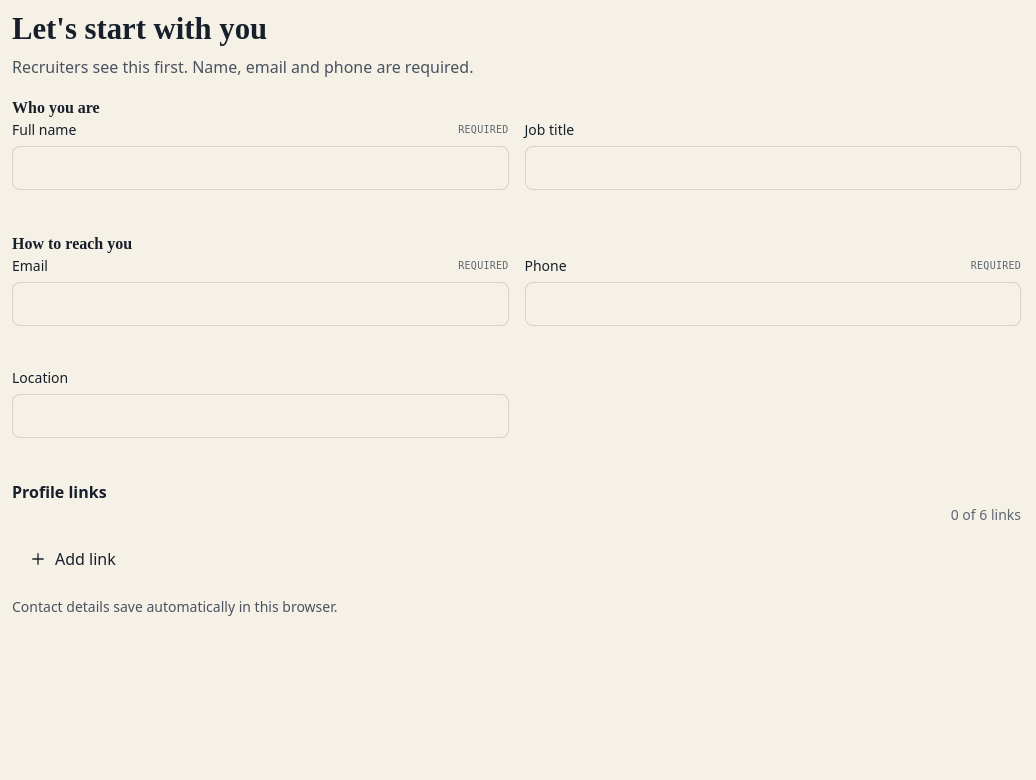
it: ContactForm › shows required field validation on blur
In the field labelled "Email": (260, 304) [12,282,508,326], type "not-an-email"
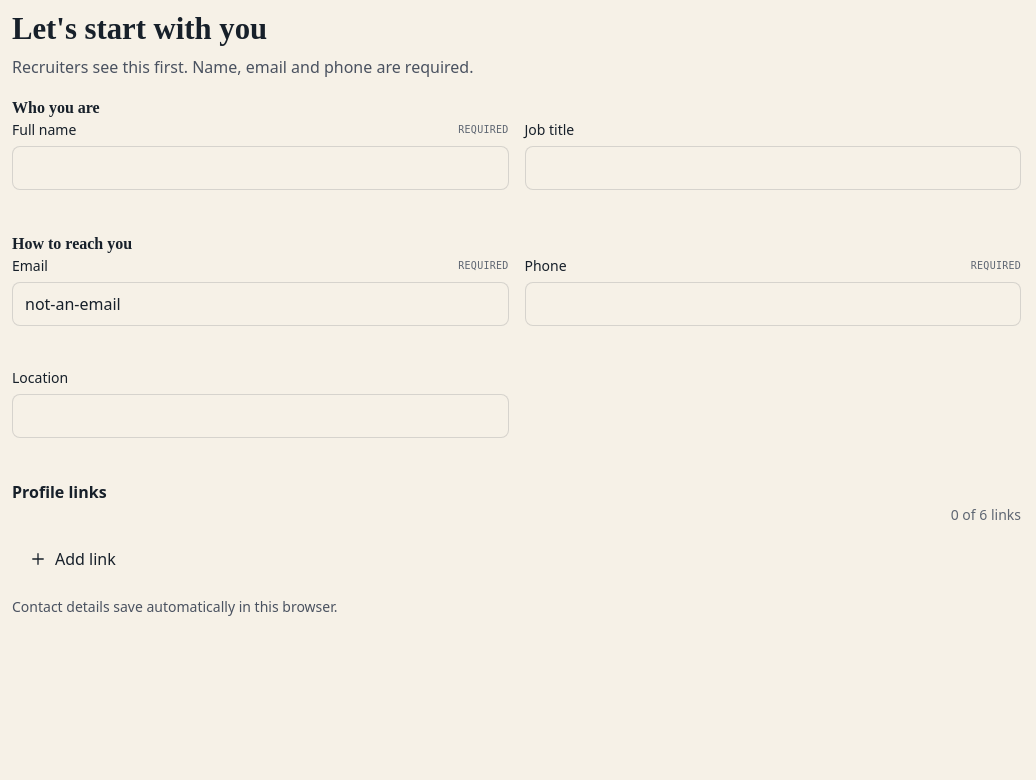
Leave the field labelled "Email", box [12,282,508,326]
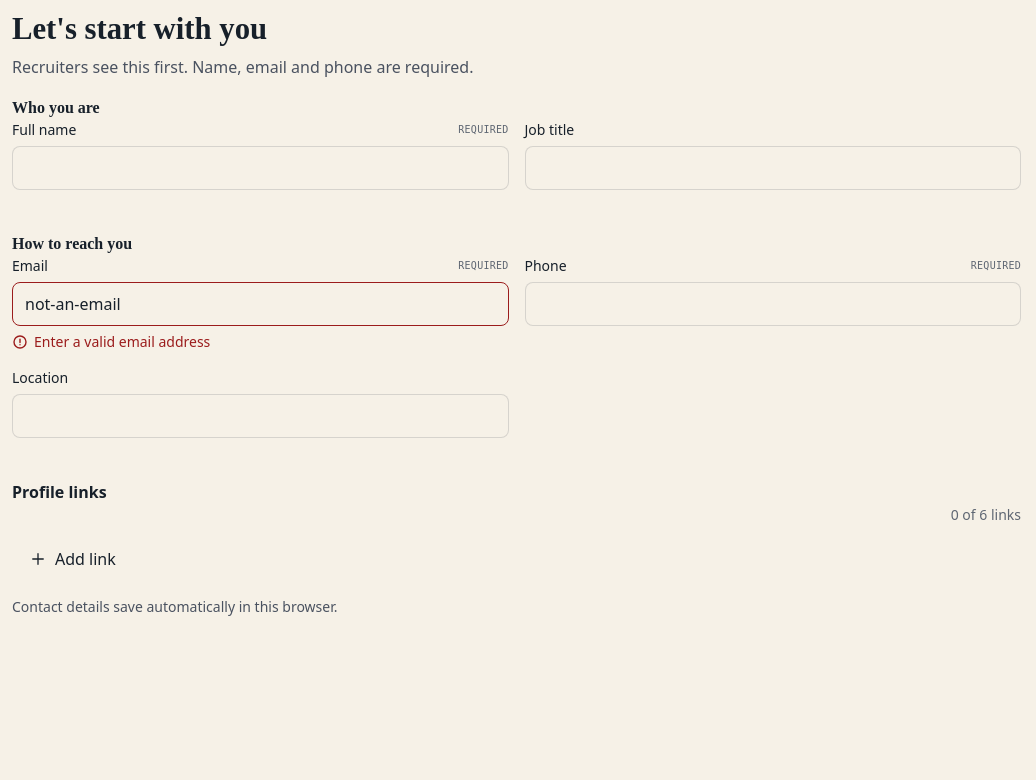
Expected: the message "Enter a valid email address" is shown, [12,332,210,352]
